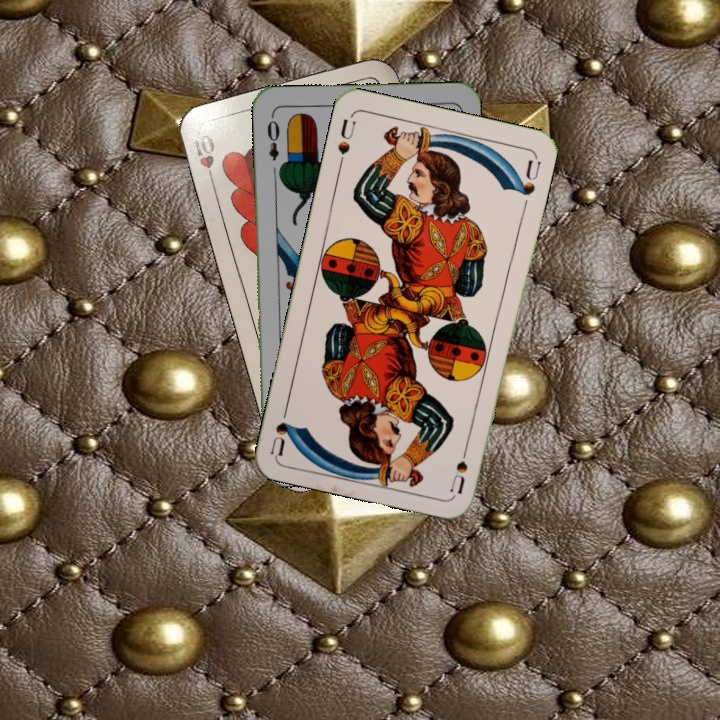EO: (263, 111, 283, 163)
H10: (187, 129, 219, 189)
SU: (445, 436, 472, 496), (333, 112, 359, 171)
